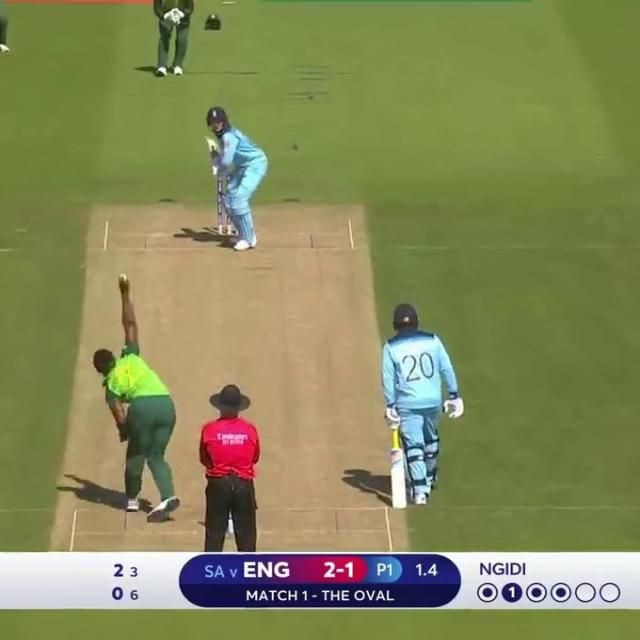bat: (388, 449, 412, 510), (206, 135, 221, 160)
toe: (387, 504, 415, 512)
